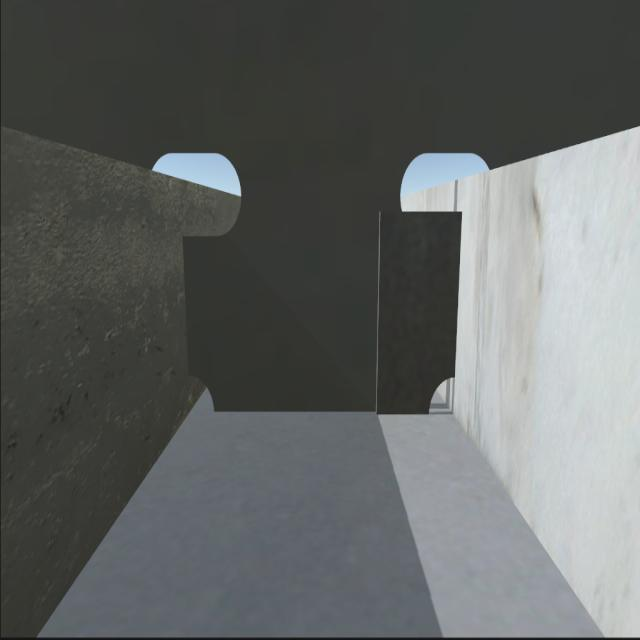fillet_hole: (426, 376, 458, 416), (191, 374, 215, 411)
fillet_yong_jeop_jang: (221, 410, 427, 425)
longi_yong_jeop_jang: (452, 221, 467, 376), (185, 240, 197, 369)
plate_CP01: (376, 204, 458, 408)
